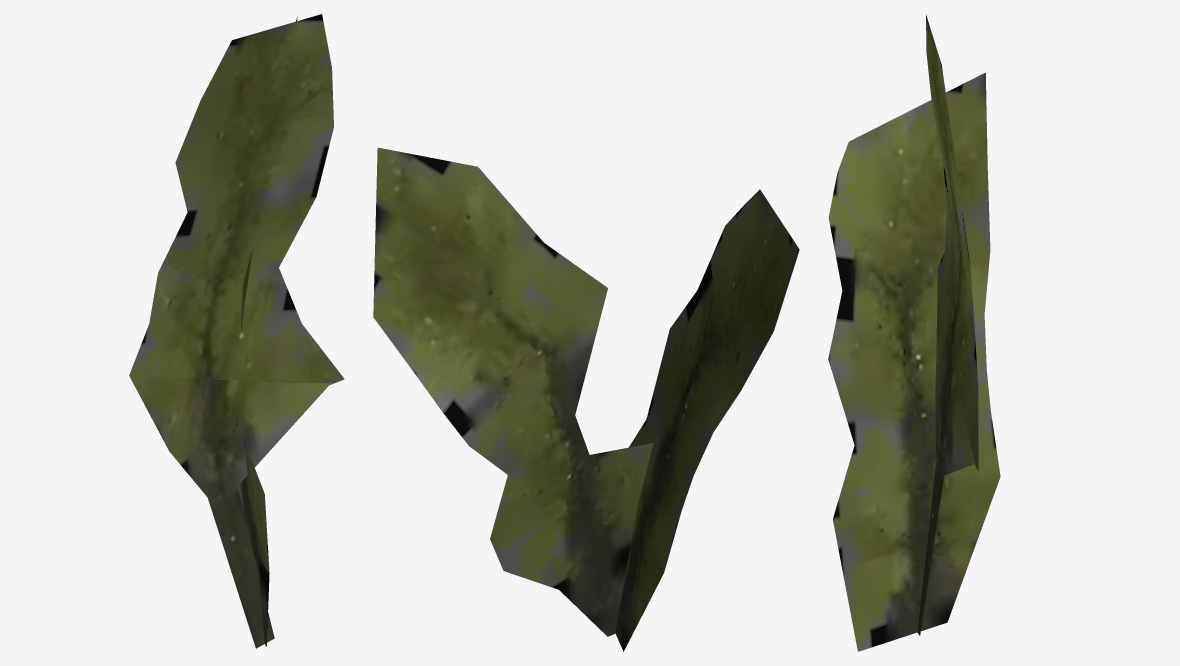
File: Seaweed_A3-transformed.glb
3 renders of one model, left to right at view 1: azimuth 30°, elevation 25°; view 2: azimuth 150°, elevation 25°; view 3: azimuth 270°, elevation 25°, orthographic.
Parts seen in each view (by area): view 1: Seaweed_A3; view 2: Seaweed_A3; view 3: Seaweed_A3.
Part boxes in pixels (bbox=[...]): Seaweed_A3: bbox=[129, 14, 344, 648]; Seaweed_A3: bbox=[373, 147, 799, 651]; Seaweed_A3: bbox=[828, 15, 1000, 651].
Bounding box in the file's own units: 0.1911 × 0.3176 × 0.1603.
Materials: 1 (1 with a texture image).
